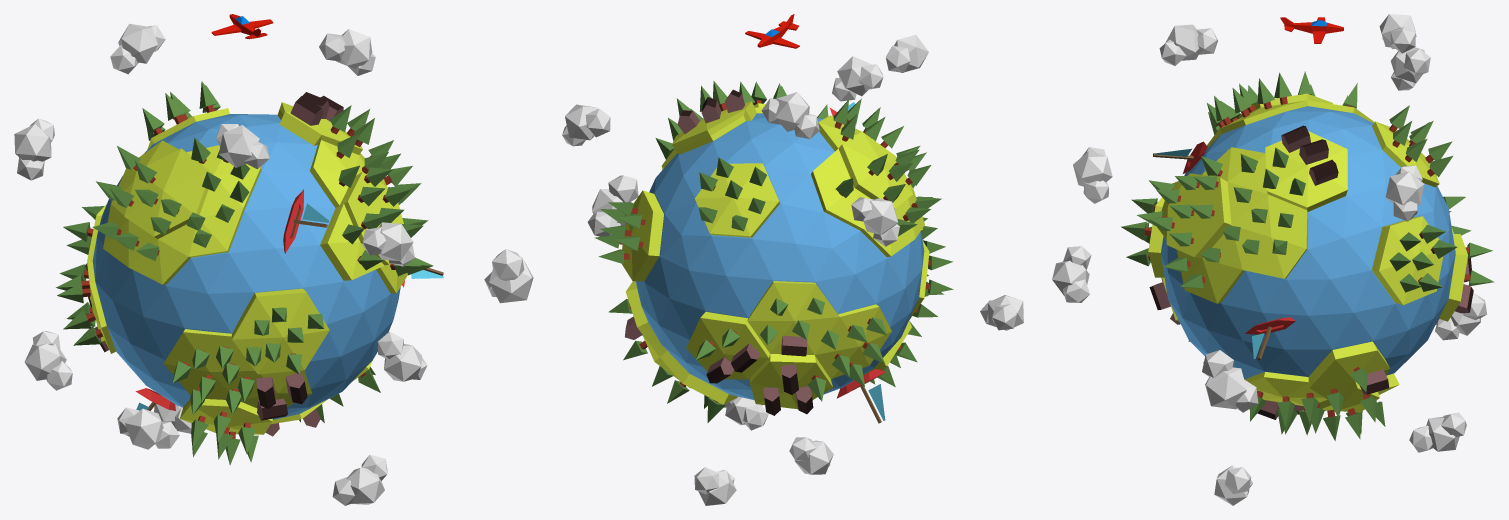
File: world.gltf
The picture shows the model from 3 angles, left to right: view 1: azimuth 30°, elevation 25°; view 2: azimuth 150°, elevation 25°; view 3: azimuth 270°, elevation 25°; orthographic projection. The views are drawn at different scales.
Parts seen in each view (by area): view 1: Icosphere.001, clouds, ship2, plane, Plane.011; view 2: Icosphere.001, clouds, ship2.002, plane, Plane.001; view 3: Icosphere.001, clouds, ship2.001, plane, ship2, Plane.010, Plane.011, Plane.007.
Boxes of the visible parts, x1,y1,x2,y2 form: Icosphere.001: [87, 102, 407, 434]; clouds: [14, 23, 533, 505]; ship2: [283, 189, 328, 253]; plane: [211, 14, 273, 39]; Plane.011: [290, 96, 323, 125]; Icosphere.001: [621, 101, 929, 409]; clouds: [562, 34, 1023, 505]; ship2.002: [836, 369, 885, 423]; plane: [745, 14, 799, 48]; Plane.001: [731, 343, 759, 372]; Icosphere.001: [1148, 93, 1467, 412]; clouds: [1052, 14, 1486, 505]; ship2.001: [1245, 317, 1295, 359]; plane: [1280, 17, 1343, 43]; ship2: [1153, 141, 1207, 173]; Plane.010: [1299, 139, 1328, 164]; Plane.011: [1281, 125, 1310, 152]; Plane.007: [1309, 159, 1338, 185].
Size of the model in its own units: 3.25 by 3.41 by 3.04.
